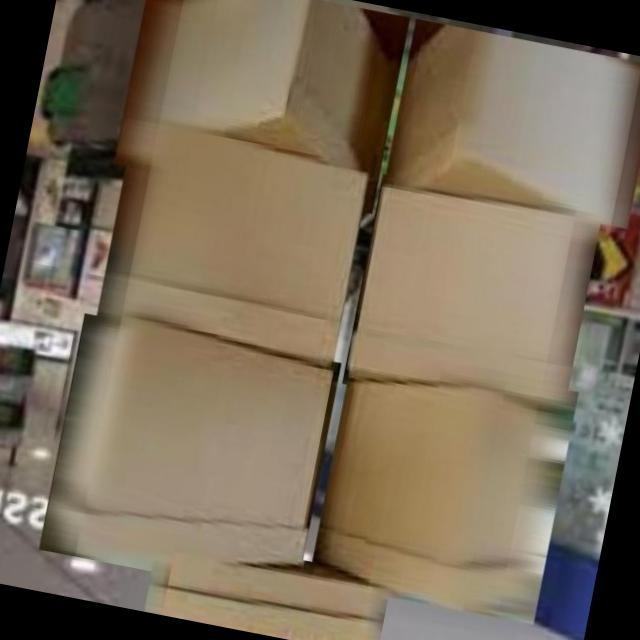box: (34, 308, 347, 605), (305, 342, 584, 630), (93, 114, 378, 366), (338, 168, 608, 430), (109, 0, 416, 217), (380, 15, 640, 232), (140, 531, 397, 640)
